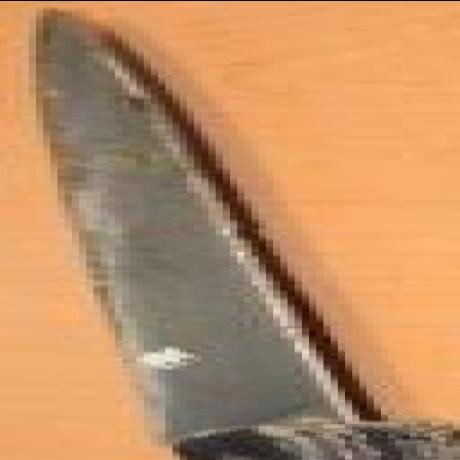weapon: (24, 9, 384, 428)
